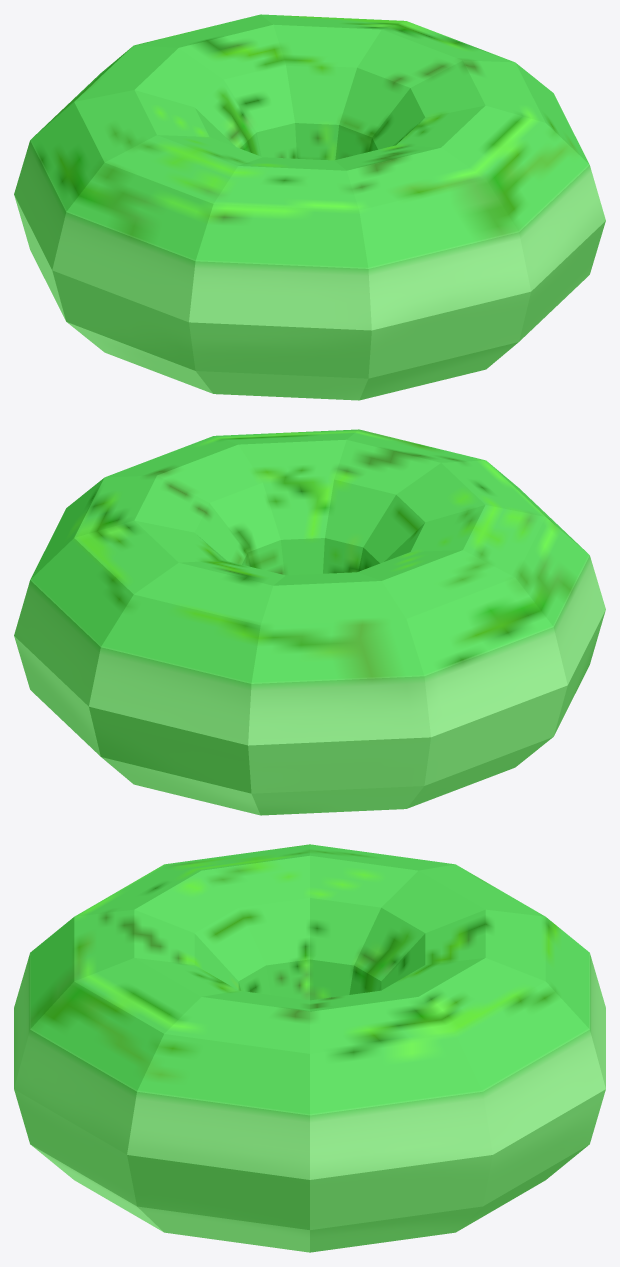
The model's file is Bad_Donut_V1.glb.
3 renders of one model, top to bottom at view 1: azimuth 30°, elevation 25°; view 2: azimuth 150°, elevation 25°; view 3: azimuth 270°, elevation 25°, orthographic. The views are drawn at different scales.
Visible parts, largest first — view 1: Bad-Donut-col; view 2: Bad-Donut-col; view 3: Bad-Donut-col.
Part boxes in pixels (left/top/right/bottom): Bad-Donut-col: left=14, top=14, right=605, bottom=400; Bad-Donut-col: left=14, top=429, right=605, bottom=815; Bad-Donut-col: left=14, top=844, right=605, bottom=1252.
Size of the model in its own units: 0.59 by 0.24 by 0.5611.
1 material, 1 textured.
